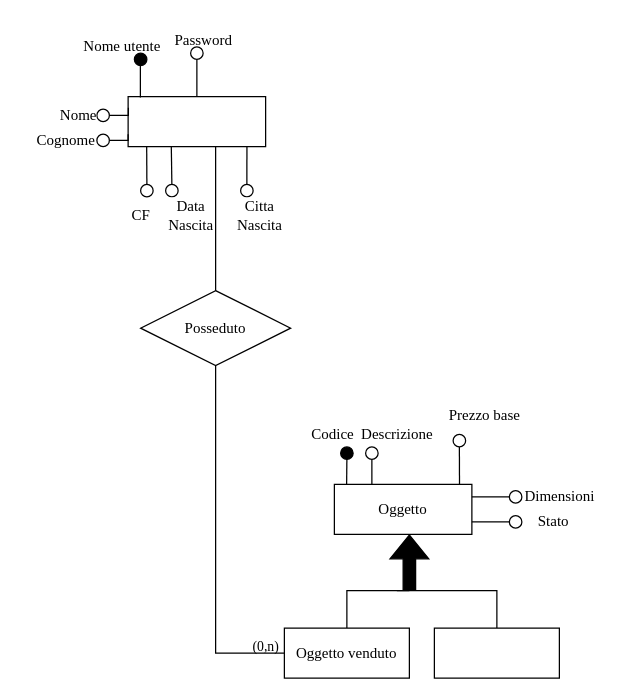
The diagram is 630 pixels wide and 700 high, and some of its shapes have lost their labels. Here are the shapes that lost their labels. From the top down, the centre of each, then its label:
At [196,121]: "Cliente".
At [496,652]: "Oggetto non venduto".
